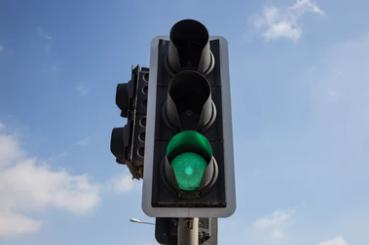green_light: (141, 19, 236, 217)
